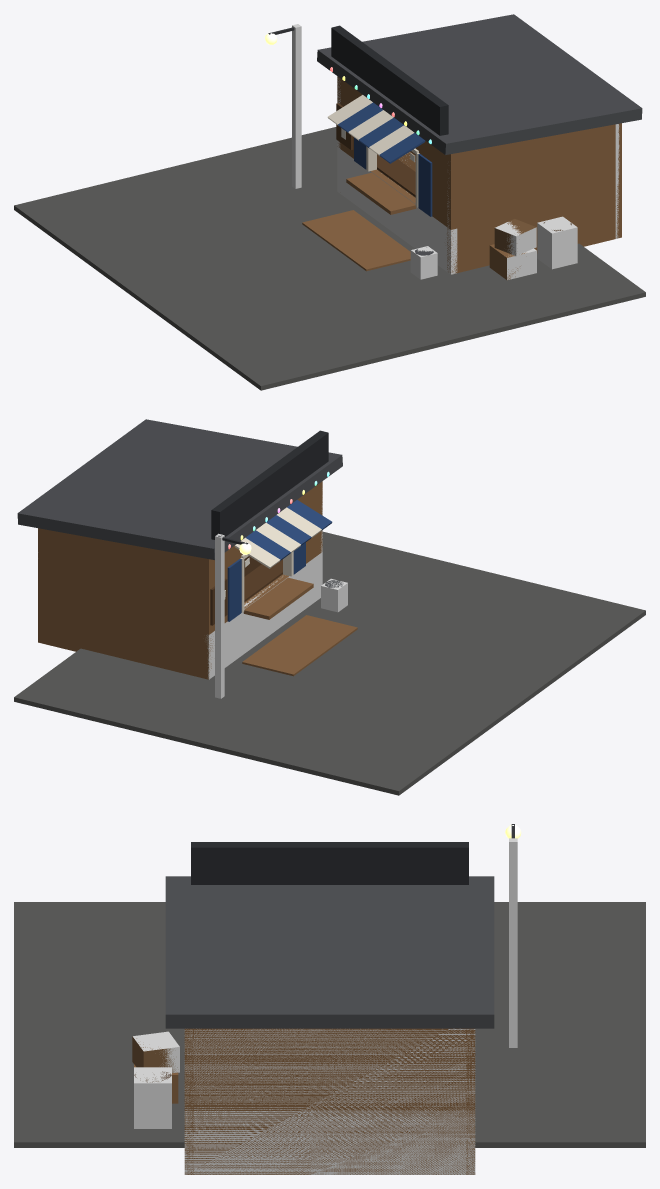
File: booth-11.glb
3 views of the same model, one above another, from view 1: azimuth 30°, elevation 25°; view 2: azimuth 150°, elevation 25°; view 3: azimuth 270°, elevation 25° (orthographic). The views are drawn at different scales.
Parts seen in each view (by area): view 1: 26_#5a5a58_noshadow, 27_#4c4e52, 18_#8a6440, 28_#2a2c30_noshadow, solid.008, 04_#8a6440_noshadow, 07_#8a6440_r320, 01_#2c4a7a_noshadow_r320, 00_#e8e0d0_noshadow_r320, solid.003, solid.004, 21_#5a3e26_noshadow (+4 smaller); view 2: 26_#5a5a58_noshadow, 27_#4c4e52, 18_#8a6440, 28_#2a2c30_noshadow, solid.008, 04_#8a6440_noshadow, 01_#2c4a7a_noshadow_r320, 07_#8a6440_r320, 00_#e8e0d0_noshadow_r320, solid.004, 21_#5a3e26_noshadow, solid; view 3: 26_#5a5a58_noshadow, 27_#4c4e52, 18_#8a6440, solid.005, 28_#2a2c30_noshadow, solid.003, solid.004, solid.002, 08_#7a5a3a_r110.
Part boxes in pixels (left/top/right/bottom): 26_#5a5a58_noshadow: left=14, top=127, right=645, bottom=390; 27_#4c4e52: left=317, top=14, right=642, bottom=154; 18_#8a6440: left=337, top=76, right=621, bottom=273; 28_#2a2c30_noshadow: left=331, top=25, right=448, bottom=135; solid.008: left=337, top=147, right=457, bottom=274; 04_#8a6440_noshadow: left=302, top=210, right=410, bottom=271; 07_#8a6440_r320: left=337, top=96, right=525, bottom=280; 01_#2c4a7a_noshadow_r320: left=338, top=102, right=432, bottom=216; 00_#e8e0d0_noshadow_r320: left=327, top=95, right=419, bottom=207; solid.003: left=537, top=216, right=577, bottom=269; solid.004: left=292, top=24, right=301, bottom=188; 21_#5a3e26_noshadow: left=377, top=154, right=415, bottom=196; 26_#5a5a58_noshadow: left=14, top=531, right=645, bottom=795; 27_#4c4e52: left=17, top=419, right=342, bottom=559; 18_#8a6440: left=38, top=481, right=322, bottom=679; 28_#2a2c30_noshadow: left=211, top=430, right=328, bottom=539; solid.008: left=205, top=552, right=322, bottom=679; 04_#8a6440_noshadow: left=242, top=615, right=357, bottom=676; 01_#2c4a7a_noshadow_r320: left=227, top=500, right=332, bottom=621; 07_#8a6440_r320: left=202, top=499, right=322, bottom=634; 00_#e8e0d0_noshadow_r320: left=234, top=507, right=321, bottom=612; solid.004: left=215, top=533, right=224, bottom=698; 21_#5a3e26_noshadow: left=244, top=559, right=282, bottom=601; solid: left=321, top=578, right=347, bottom=612; 26_#5a5a58_noshadow: left=14, top=902, right=645, bottom=1147; 27_#4c4e52: left=165, top=876, right=494, bottom=1028; 18_#8a6440: left=184, top=1028, right=475, bottom=1174; solid.005: left=184, top=1028, right=475, bottom=1174; 28_#2a2c30_noshadow: left=191, top=842, right=468, bottom=884; solid.003: left=134, top=1067, right=171, bottom=1128; solid.004: left=509, top=838, right=517, bottom=1047; solid.002: left=133, top=1031, right=179, bottom=1072; 08_#7a5a3a_r110: left=132, top=1036, right=177, bottom=1073.
Size of the model in its own units: 10.3 by 3.85 by 10.
